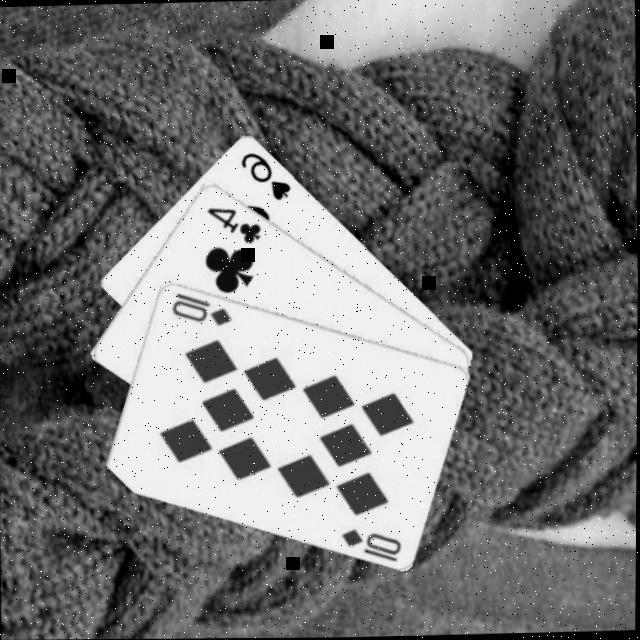10D: (170, 289, 237, 330), (340, 526, 407, 566)
4C: (205, 203, 266, 248)
6S: (238, 148, 296, 204)
